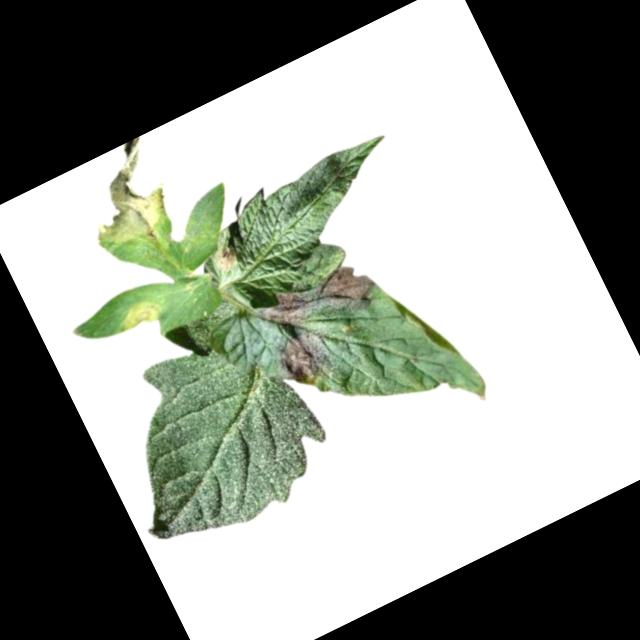Late_blight: (61, 135, 184, 263), (302, 254, 384, 330), (266, 324, 342, 397), (249, 284, 313, 341), (107, 293, 166, 341), (209, 243, 242, 277)
healthy: (81, 309, 346, 565)
